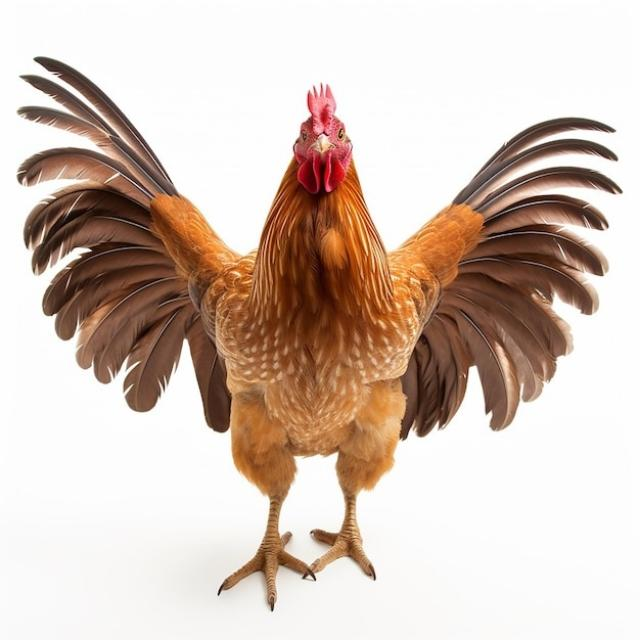Chicken: (15, 55, 624, 610)
